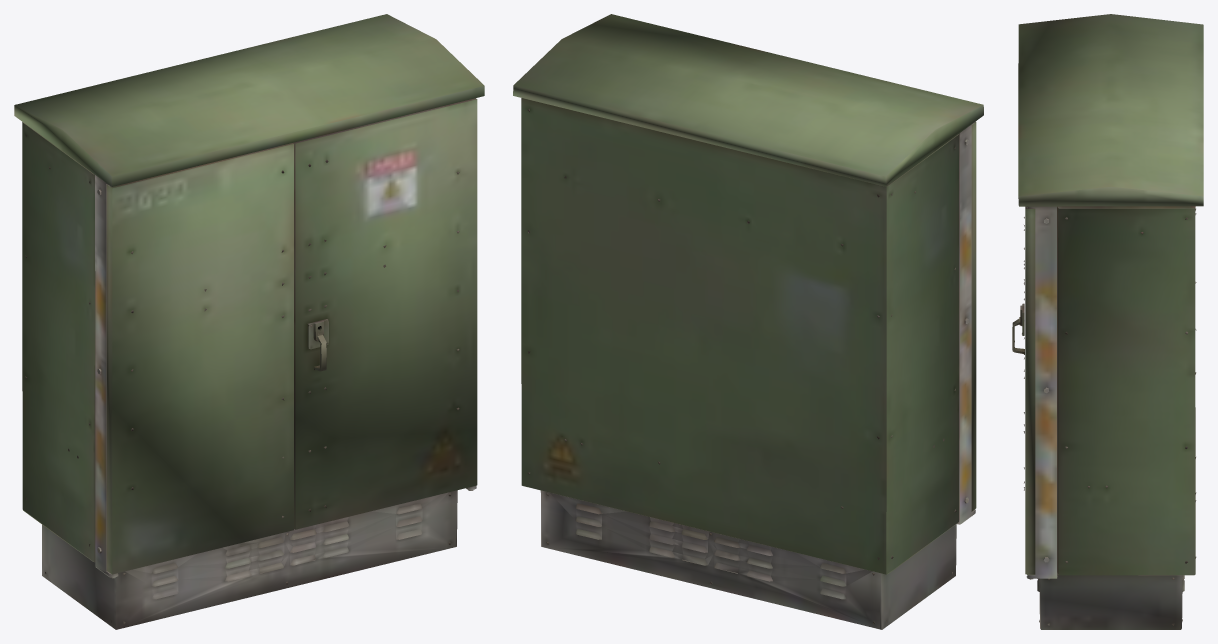
The model's file is utility_box_02.glb.
3 views of the same model, side by side, from view 1: azimuth 30°, elevation 25°; view 2: azimuth 150°, elevation 25°; view 3: azimuth 270°, elevation 25° (orthographic). The views are drawn at different scales.
Visible parts, largest first — view 1: utility_box_02; view 2: utility_box_02; view 3: utility_box_02.
Boxes of the visible parts, x1=… form: utility_box_02: x1=14, y1=14, x2=484, y2=629; utility_box_02: x1=513, y1=14, x2=983, y2=629; utility_box_02: x1=1012, y1=14, x2=1203, y2=629.
Bounding box in the file's own units: 0.9174 × 1.12 × 0.4304.
1 material, 1 textured.
